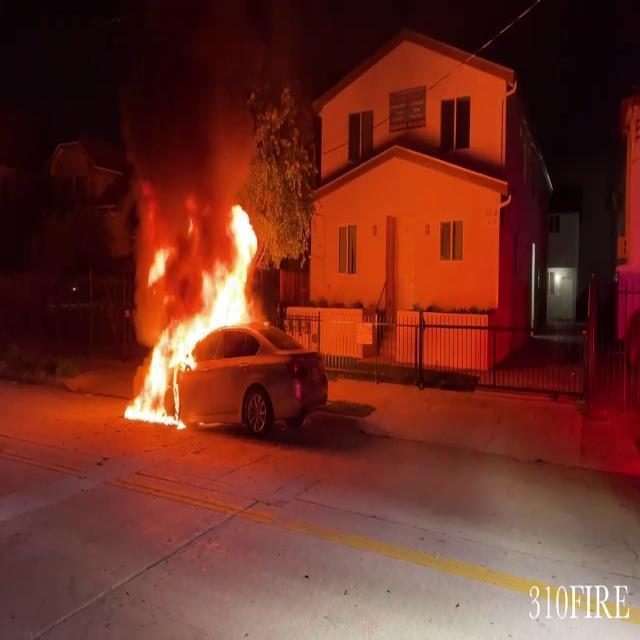Fire: (121, 182, 269, 426)
Smoke: (96, 3, 258, 228)
